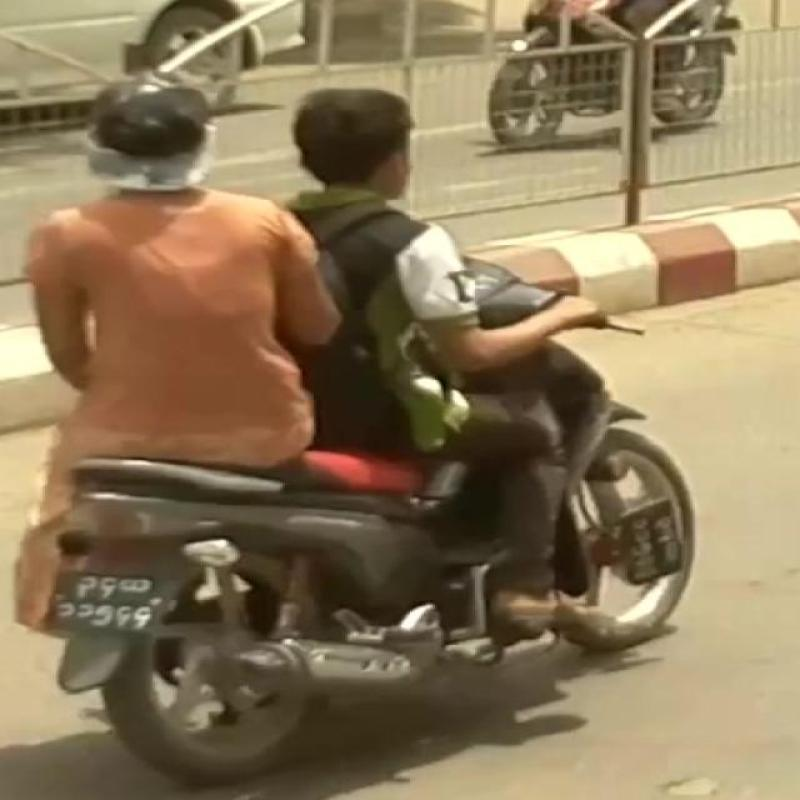nohelmet: (66, 92, 274, 209), (291, 72, 450, 208)
